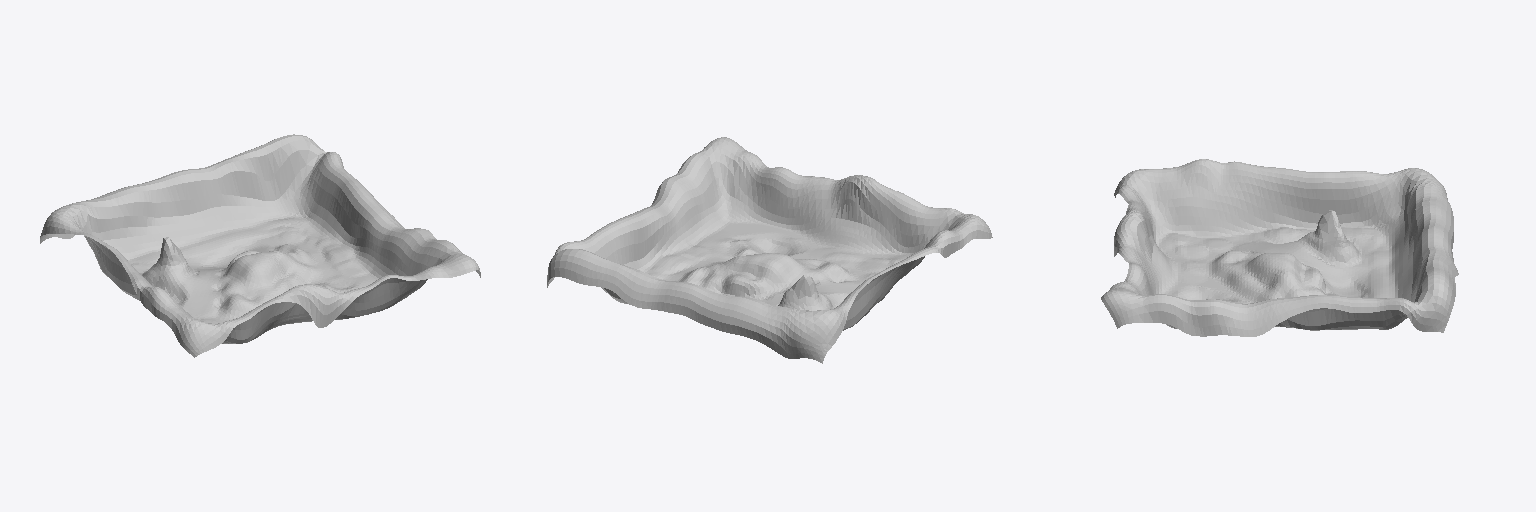
Rendered from vehicle_workshop_terrain1.obj.
3 views of the same model, side by side, from view 1: azimuth 30°, elevation 25°; view 2: azimuth 150°, elevation 25°; view 3: azimuth 270°, elevation 25° (orthographic).
Visible parts, largest first — view 1: Plane; view 2: Plane; view 3: Plane.
Part boxes in pixels (left/top/right/bottom): Plane: left=40, top=134, right=480, bottom=357; Plane: left=547, top=137, right=992, bottom=363; Plane: left=1101, top=159, right=1458, bottom=336.
Size of the model in its own units: 223 by 51.38 by 234.